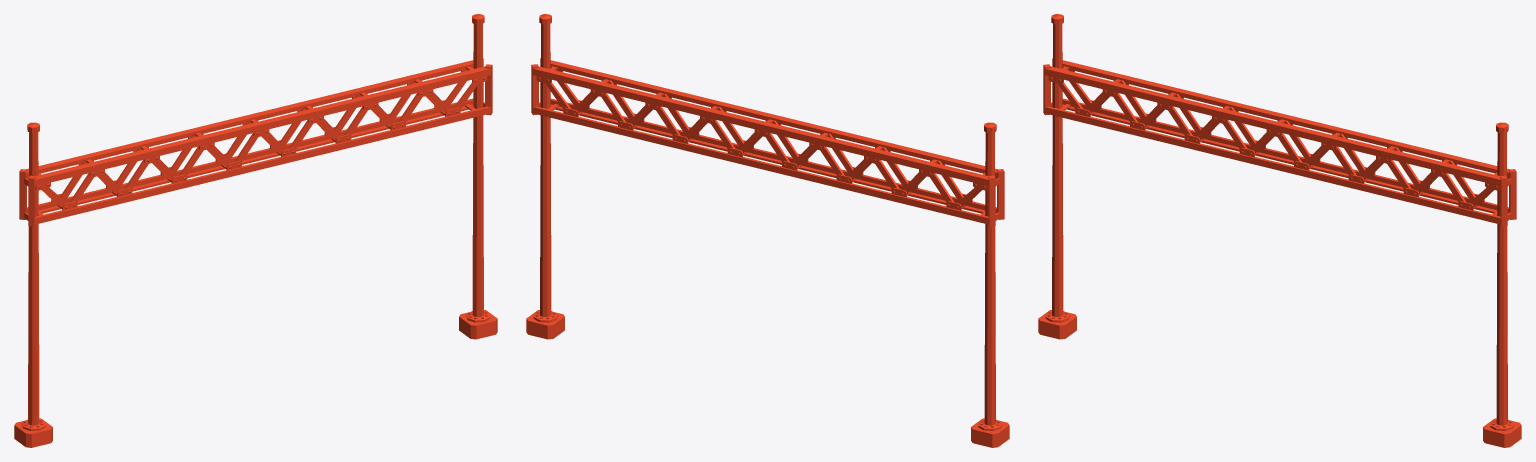
Rendered from SM_Sign_Gantry_Normal_A_City.fbx.
The picture shows the model from 3 angles, left to right: view 1: azimuth 30°, elevation 25°; view 2: azimuth 150°, elevation 25°; view 3: azimuth 330°, elevation 25°; orthographic projection.
Parts seen in each view (by area): view 1: SM_Sign_Gantry_Normal_A_City; view 2: SM_Sign_Gantry_Normal_A_City; view 3: SM_Sign_Gantry_Normal_A_City.
Part boxes in pixels (x1,y1,x2,y2): SM_Sign_Gantry_Normal_A_City: (14,14,497,447); SM_Sign_Gantry_Normal_A_City: (526,14,1009,447); SM_Sign_Gantry_Normal_A_City: (1038,14,1521,447).
Bounding box in the file's own units: 14.85 × 9.5 × 0.8509.
